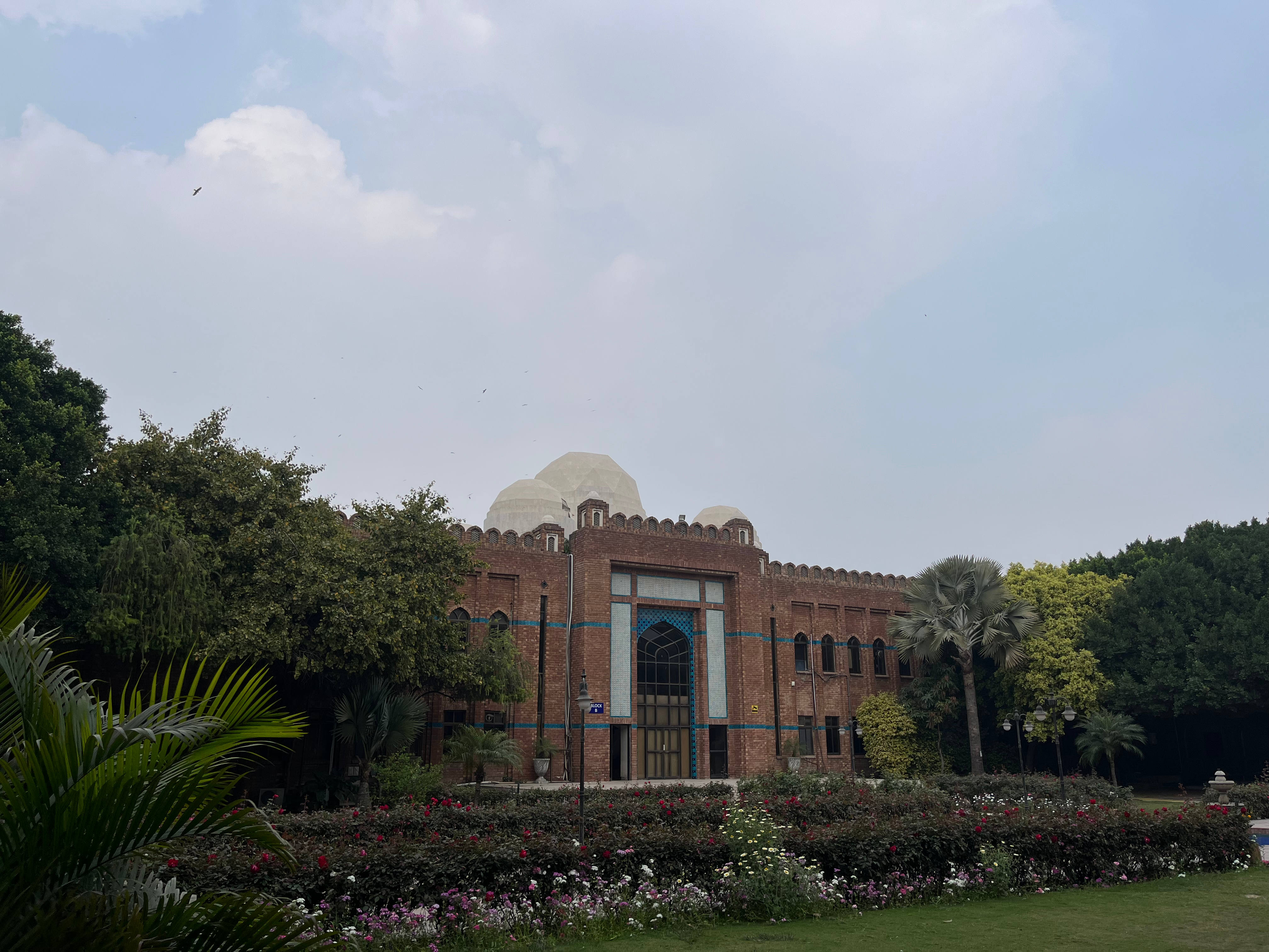Block B: (239, 448, 1079, 778)
